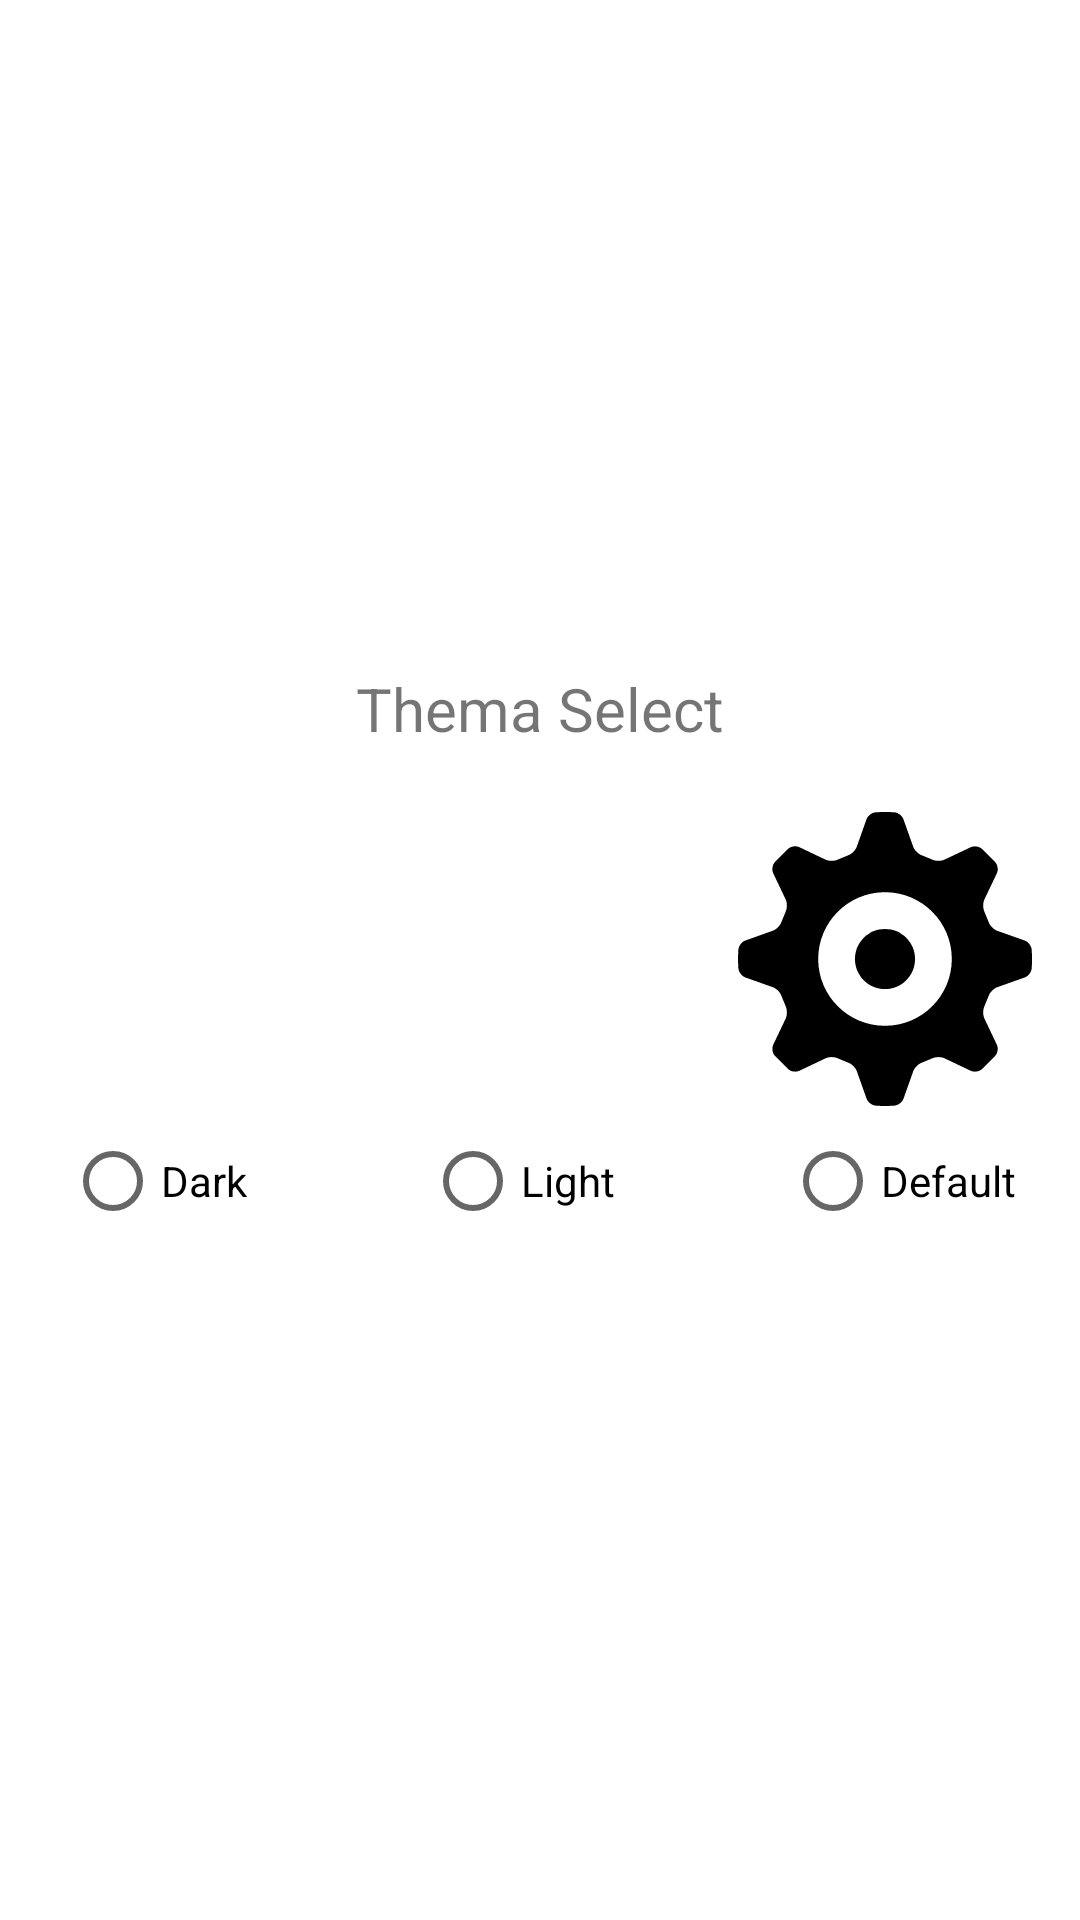

Where to tap for icons on this 1080 x 1920 app screen, as (x=x, y=y):
system: (x=885, y=959)
